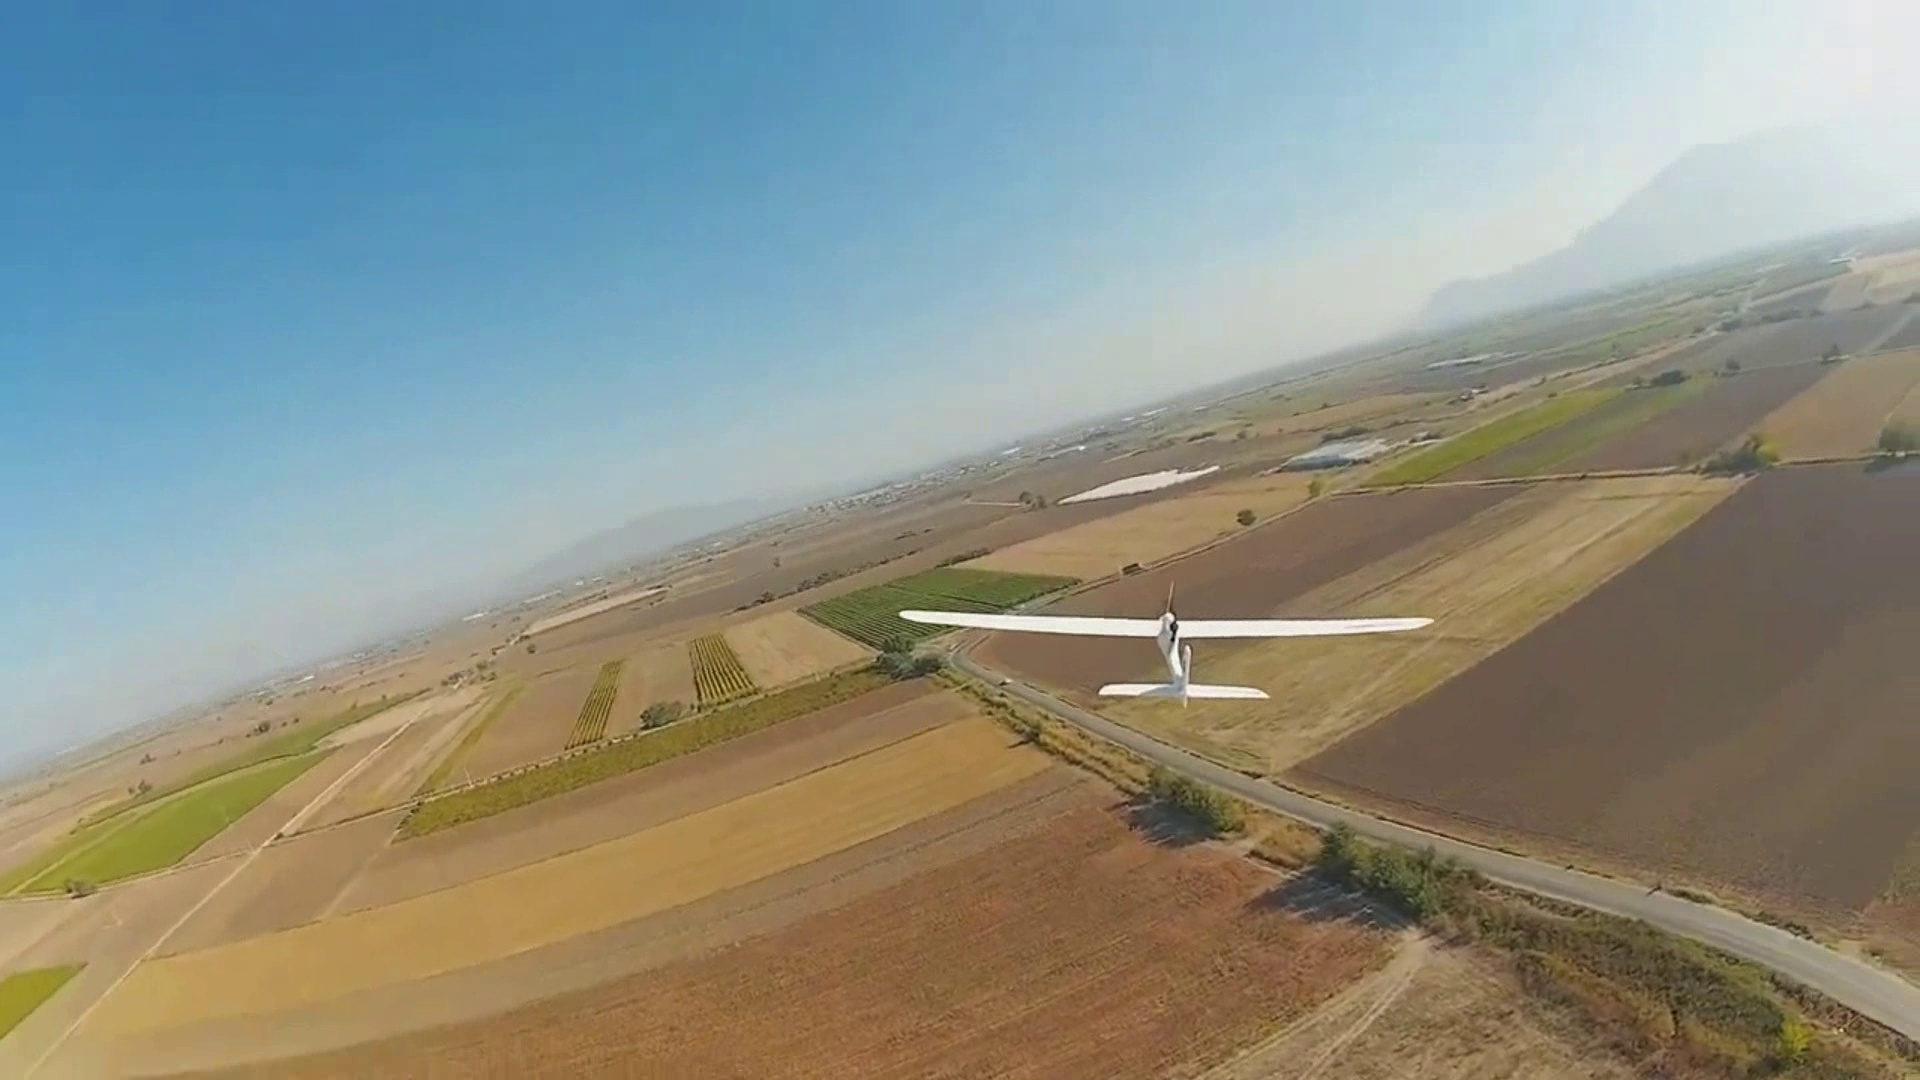airplane: (889, 593, 1916, 1048)
